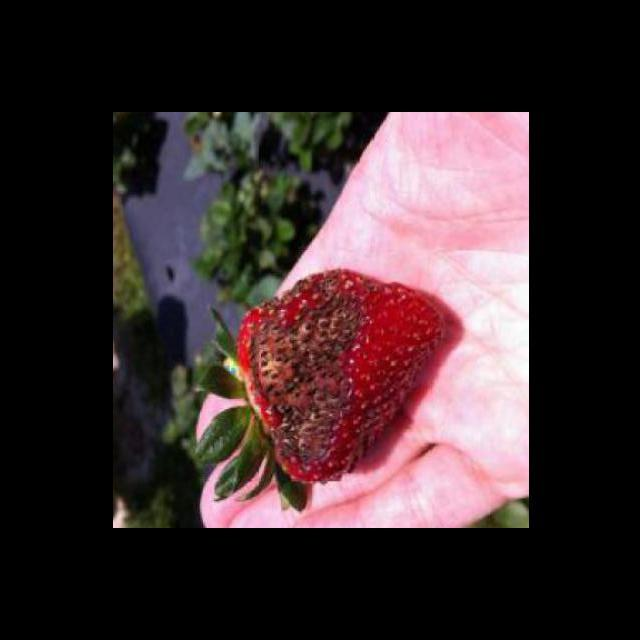Anthracnose Fruit Rot: (236, 267, 386, 486)
